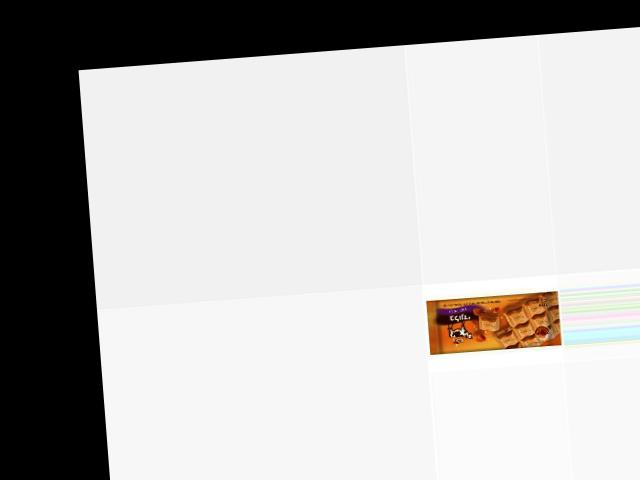chocolate: (421, 286, 561, 354)
